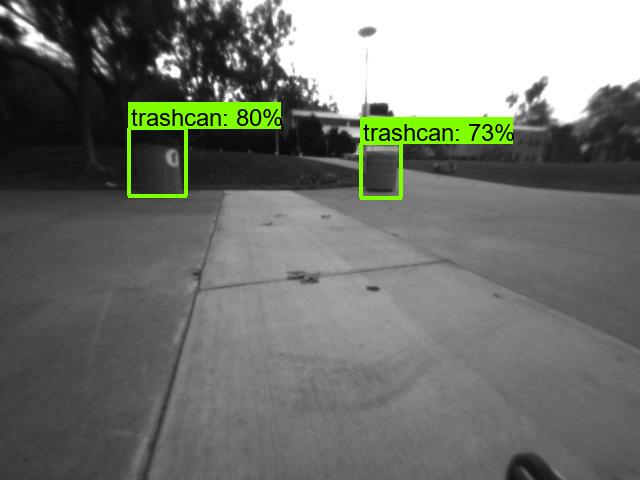trashcan: (128, 130, 189, 194), (363, 144, 399, 194)
